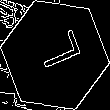L_W: (28, 31, 82, 79)
